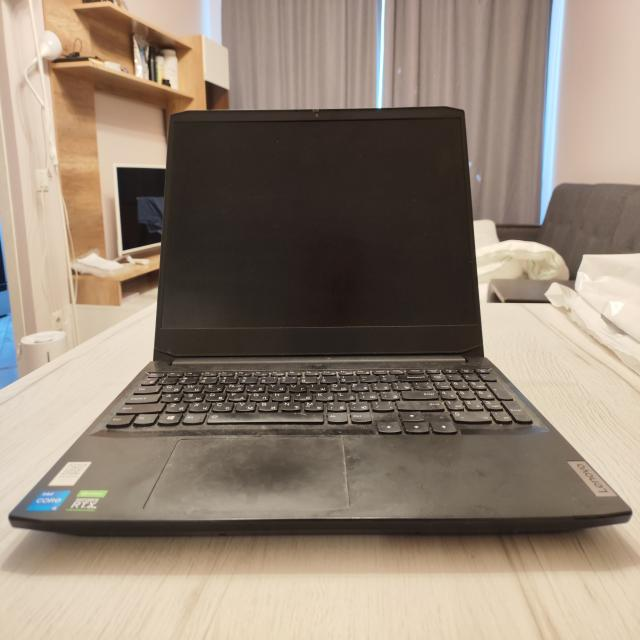other: (171, 435, 353, 496), (460, 494, 500, 523)
scratch: (569, 492, 637, 523)
